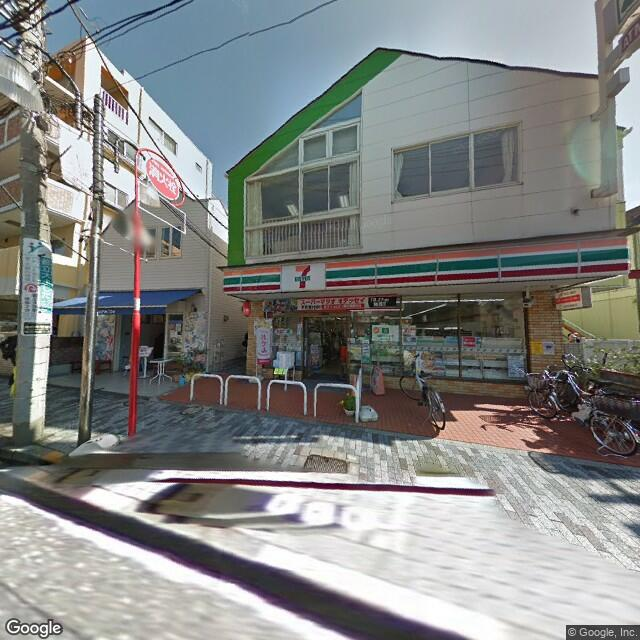7-eleven: (224, 231, 631, 295)
